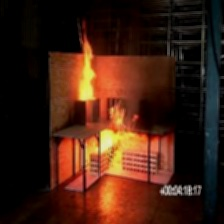fire: (64, 17, 113, 112), (88, 105, 148, 172)
